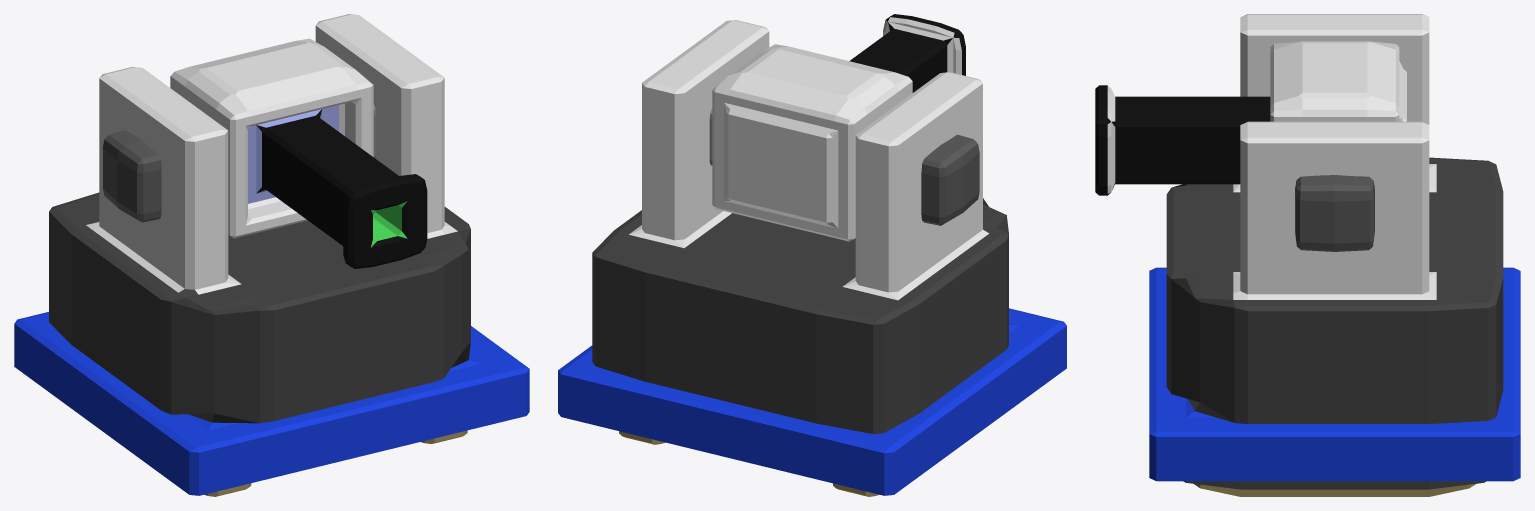
The model's file is EnemyExplosion2V2.fbx.
The picture shows the model from 3 angles, left to right: view 1: azimuth 30°, elevation 25°; view 2: azimuth 150°, elevation 25°; view 3: azimuth 270°, elevation 25°; orthographic projection. The views are drawn at different scales.
Parts seen in each view (by area): view 1: Cube, Cube.001; view 2: Cube, Cube.001; view 3: Cube, Cube.001.
Boxes of the visible parts, x1,y1,x2,y2 form: Cube: (14,14,529,496); Cube.001: (103,38,427,268); Cube: (558,20,1066,496); Cube.001: (709,14,979,241); Cube: (1149,14,1520,496); Cube.001: (1095,41,1406,251).
Size of the model in its own units: 197 by 198 by 208.
